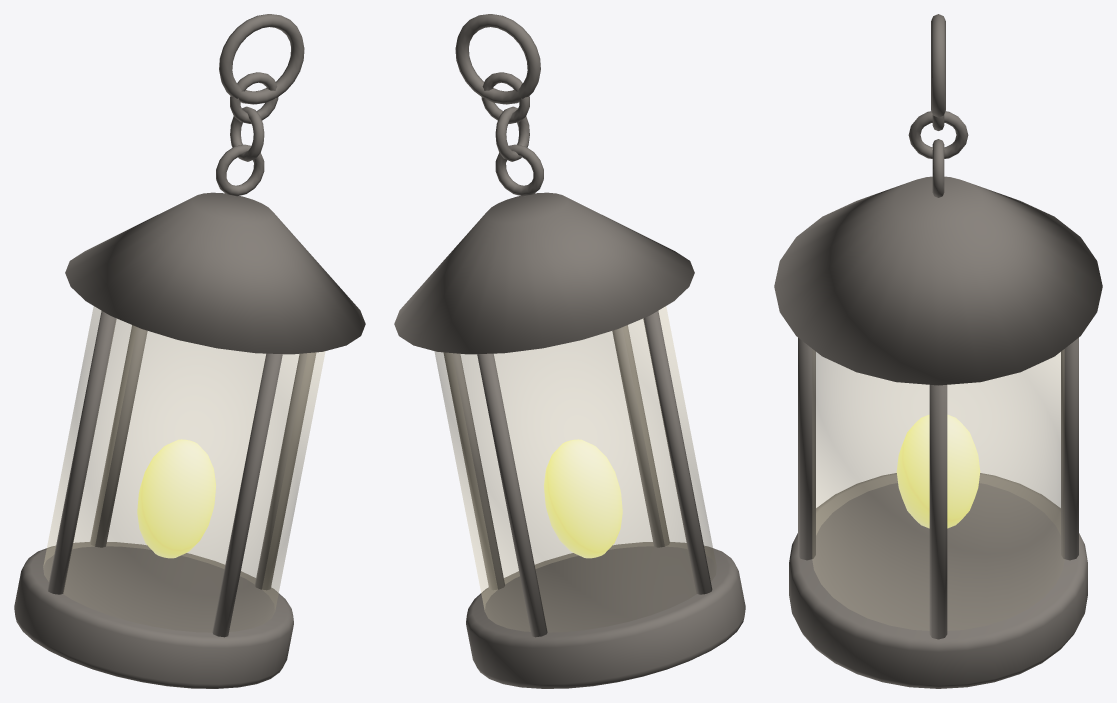
The model's file is meshgate_lantern.glb.
The picture shows the model from 3 angles, left to right: view 1: azimuth 30°, elevation 25°; view 2: azimuth 150°, elevation 25°; view 3: azimuth 270°, elevation 25°; orthographic projection. The views are drawn at different scales.
Visible parts, largest first — view 1: glass_body, cap, base, flame, bar_3, bar_2, bar_0, bar_1, hook_ring, chain_2, chain_0, chain_1; view 2: glass_body, cap, base, flame, bar_1, bar_2, bar_0, bar_3, hook_ring, chain_2, chain_0, chain_1; view 3: glass_body, cap, base, flame, bar_0, bar_1, bar_3, hook_ring, chain_1, chain_2.
Boxes of the visible parts, box(x1,y1,x2,y2) form: glass_body: box(43, 306, 325, 632); cap: box(65, 192, 365, 354); base: box(14, 542, 293, 688); flame: box(137, 439, 216, 558); bar_3: box(212, 353, 282, 637); bar_2: box(47, 311, 116, 594); bar_0: box(255, 352, 316, 590); bar_1: box(90, 325, 147, 547); hook_ring: box(219, 14, 304, 104); chain_2: box(216, 144, 264, 196); chain_0: box(230, 72, 278, 123); chain_1: box(230, 106, 264, 161); glass_body: box(434, 306, 716, 632); cap: box(394, 192, 694, 354); base: box(466, 542, 745, 688); flame: box(543, 439, 622, 558); bar_1: box(477, 353, 547, 637); bar_2: box(643, 311, 712, 594); bar_0: box(443, 352, 504, 590); bar_3: box(612, 325, 669, 547); hook_ring: box(455, 14, 540, 104); chain_2: box(495, 144, 543, 196); chain_0: box(481, 72, 529, 123); chain_1: box(495, 106, 529, 161); glass_body: box(812, 349, 1064, 630); cap: box(774, 176, 1102, 385); base: box(789, 473, 1087, 688); flame: box(896, 414, 980, 528); bar_0: box(929, 385, 947, 639); bar_1: box(1061, 338, 1078, 560); bar_3: box(798, 338, 815, 560); hook_ring: box(931, 14, 945, 117); chain_1: box(908, 111, 968, 158); chain_2: box(932, 139, 944, 197).
Size of the model in its own units: 0.2593 by 0.4947 by 0.22.
